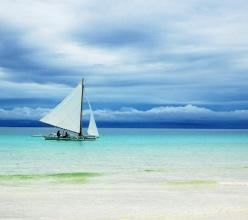fanchuan: (37, 77, 102, 142)
